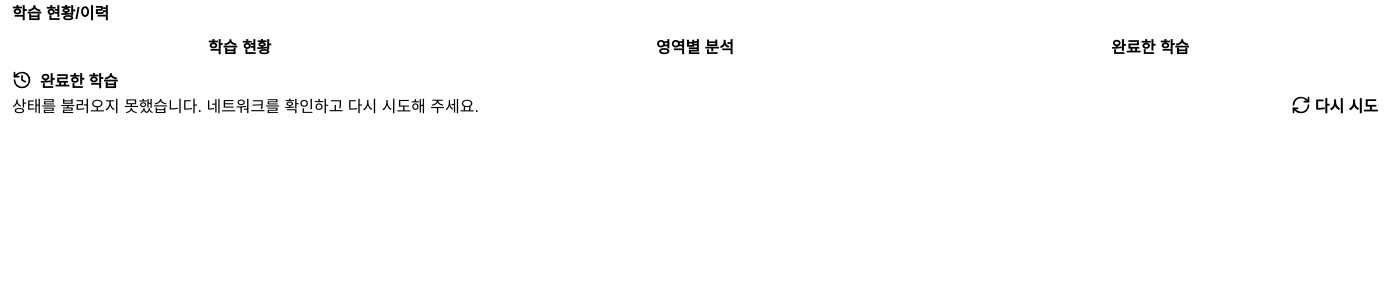
it: history 탭별 API 게이트·캐시 공유 (AC-5·AC-9) › 완료 탭 조회 실패는 해당 탭에만 오류+재시도를 보인다
Expected: the text "상태를 불러오지 못했습니다. 네트워크를 확인하고 다시 시도해 주세요." is shown, [12,98,479,115]
Click the button "다시 시도".
click(1334, 105)  # box [1291,92,1378,118]
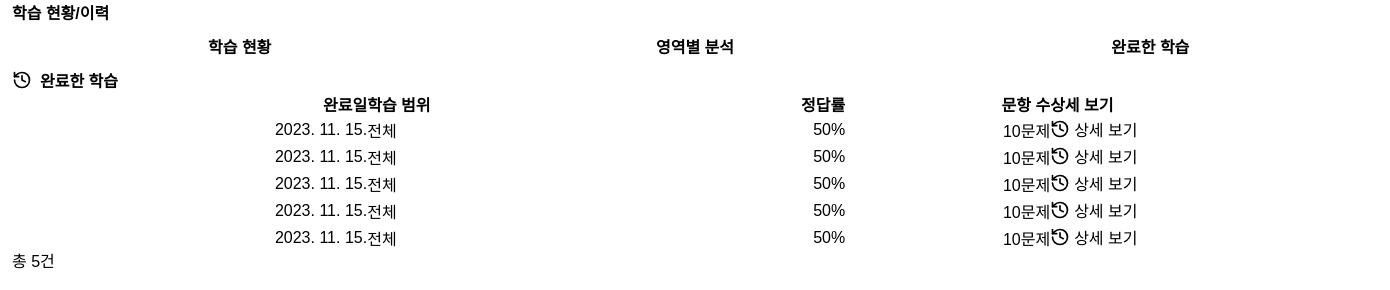
Result: the text "총 5건" is shown at [12,251,55,274]
